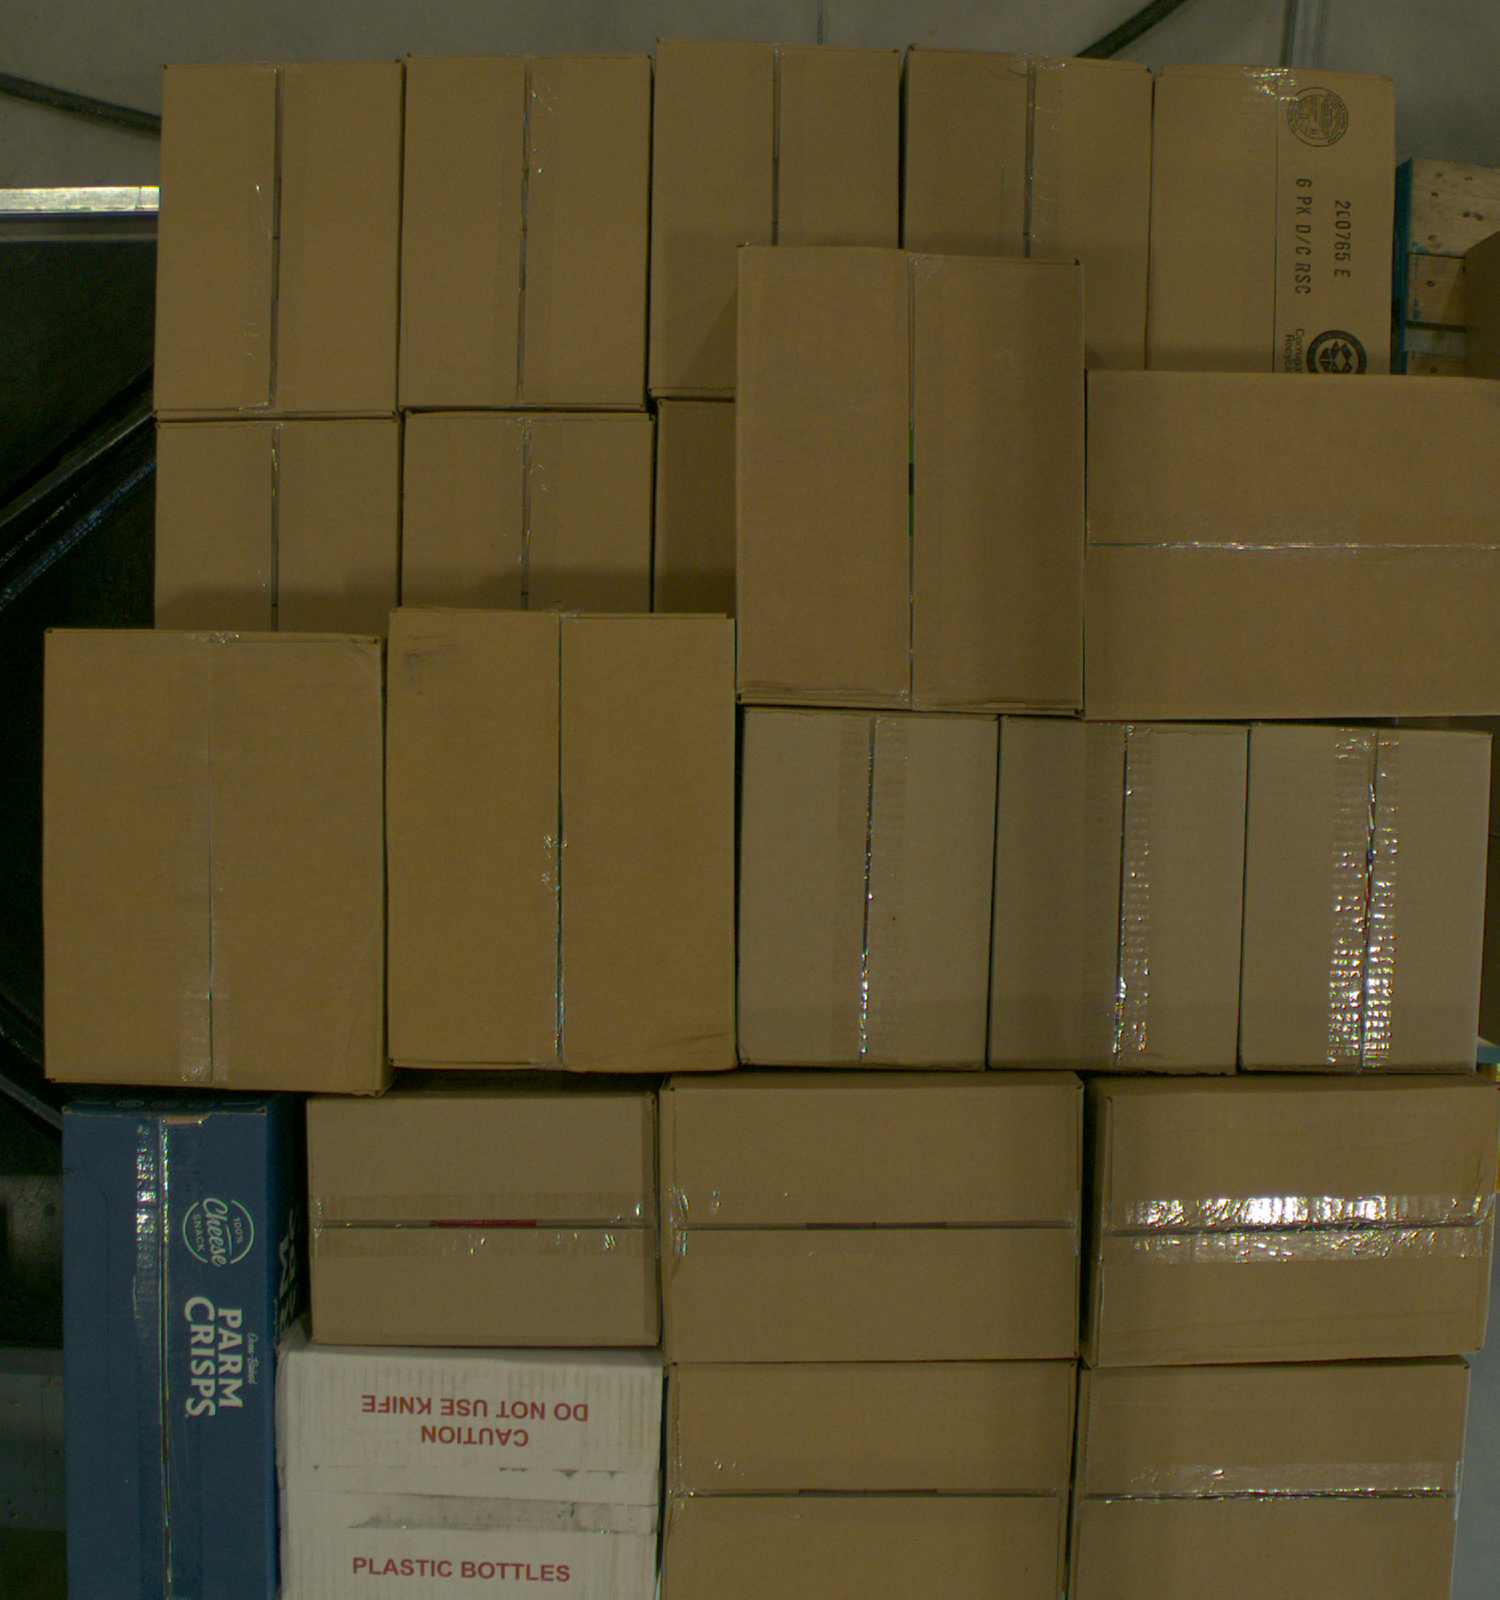box top: (737, 244, 1086, 718), (388, 612, 736, 1074), (49, 632, 388, 1095), (1086, 369, 1500, 720), (664, 1078, 1088, 1355), (1094, 1083, 1500, 1366), (62, 1114, 273, 1600), (663, 1363, 1078, 1600), (276, 1350, 663, 1600), (1069, 1365, 1473, 1600), (985, 713, 1246, 1076), (737, 708, 995, 1070), (648, 39, 901, 398), (154, 61, 405, 420), (400, 52, 653, 407), (1239, 722, 1492, 1071), (309, 1093, 660, 1343), (905, 47, 1150, 369), (1146, 63, 1394, 375), (156, 419, 400, 634), (402, 412, 654, 617), (654, 400, 736, 613)
